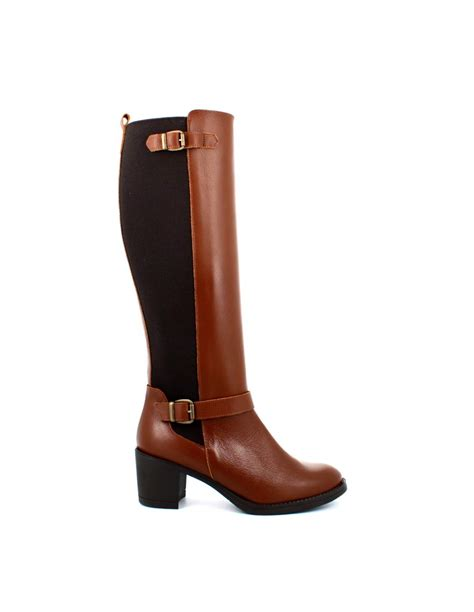cuero: (117, 109, 345, 504)
